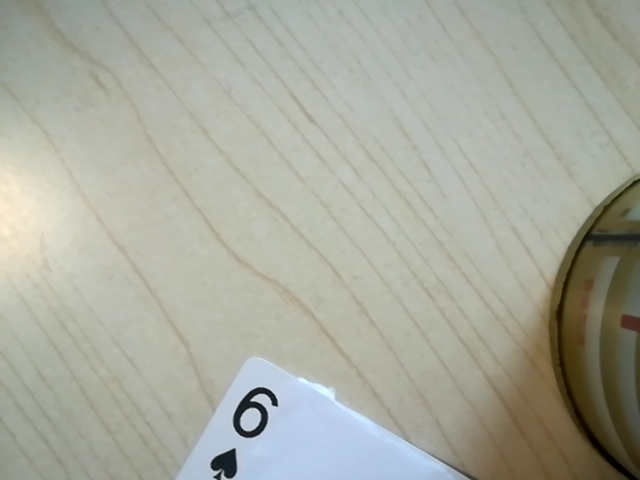ht 6: (200, 377, 283, 474)
